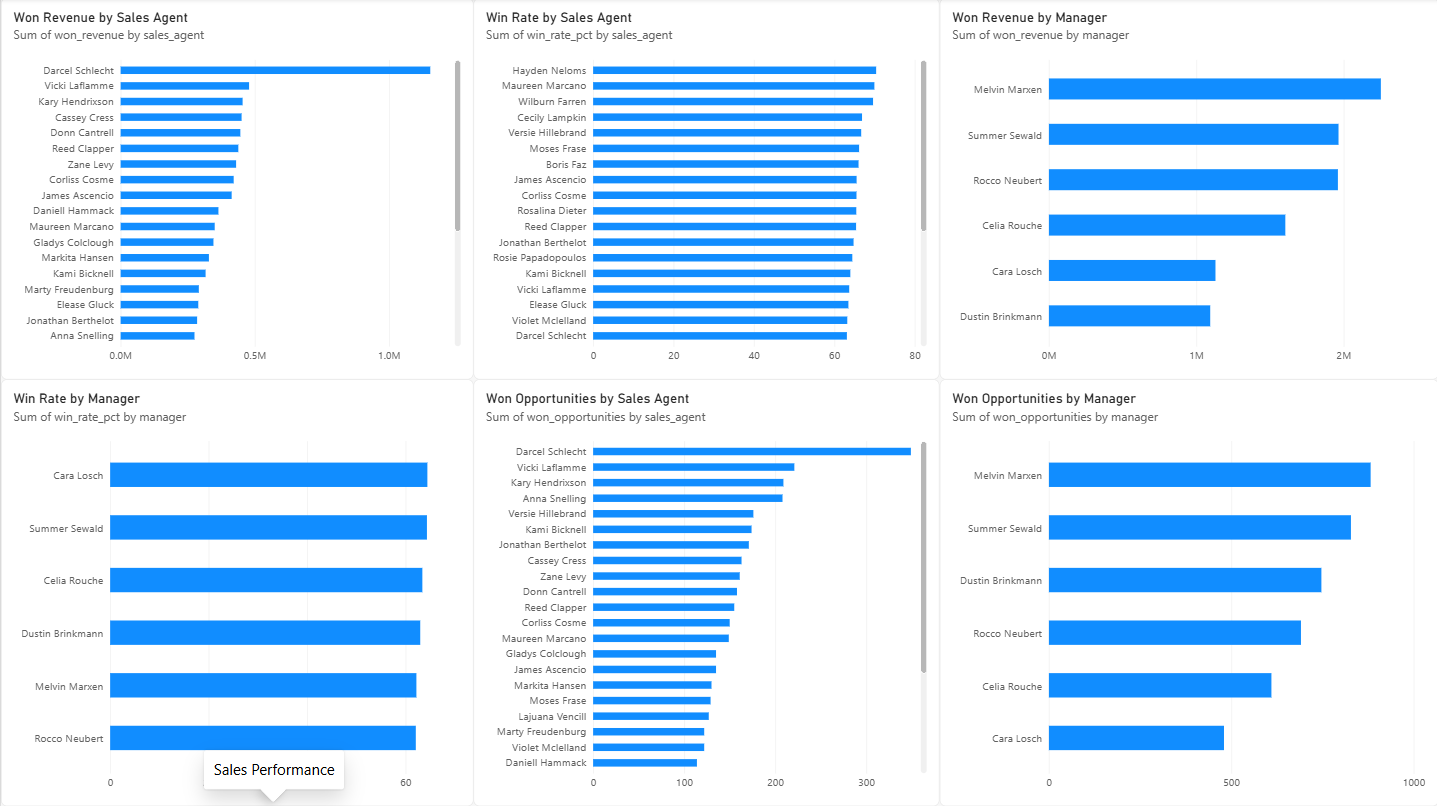

Layout of this report page (visuals, bound fields, positions):
{"tool":"powerbi","page":{"name":"Sales Performance","canvas":[1920,1080],"ordinal":1},"visuals":[{"type":"clusteredBarChart","title":"Won Revenue by Sales Agent","fields":{"Category":["sales_agent_performance.sales_agent"],"Y":["Sum(sales_agent_performance.won_revenue)"]},"box":[0,0,631.4,509.3],"z":0},{"type":"clusteredBarChart","title":"Win Rate by Sales Agent","fields":{"Category":["sales_agent_performance.sales_agent"],"Y":["Sum(sales_agent_performance.win_rate_pct)"]},"box":[631.4,0,622.7,509.3],"z":1},{"type":"clusteredBarChart","title":"Won Revenue by Manager","fields":{"Category":["manager_performance.manager"],"Y":["Sum(manager_performance.won_revenue)"]},"box":[1254.1,0,666.3,509.3],"z":2},{"type":"barChart","title":"Win Rate by Manager","fields":{"Category":["manager_performance.manager"],"Y":["Sum(manager_performance.win_rate_pct)"]},"box":[0,509.3,631.4,570.4],"z":3},{"type":"clusteredBarChart","title":"Won Opportunities by Sales Agent","fields":{"Category":["sales_agent_performance.sales_agent"],"Y":["Sum(sales_agent_performance.won_opportunities)"]},"box":[631.4,509.3,622.7,570.4],"z":4},{"type":"clusteredBarChart","title":"Won Opportunities by Manager","fields":{"Category":["manager_performance.manager"],"Y":["Sum(manager_performance.won_opportunities)"]},"box":[1254.1,509.3,666.3,570.4],"z":5}]}

Visuals, with their boxes in screenshot pixels (x1, y1, x2, y2), scaled from the page's 1920x1080 canvas onto the 1437x806 screenshot:
"Won Revenue by Sales Agent" clusteredBarChart: <bbox>0, 0, 473, 380</bbox>
"Win Rate by Sales Agent" clusteredBarChart: <bbox>473, 0, 939, 380</bbox>
"Won Revenue by Manager" clusteredBarChart: <bbox>939, 0, 1436, 380</bbox>
"Win Rate by Manager" barChart: <bbox>0, 380, 473, 805</bbox>
"Won Opportunities by Sales Agent" clusteredBarChart: <bbox>473, 380, 939, 805</bbox>
"Won Opportunities by Manager" clusteredBarChart: <bbox>939, 380, 1436, 805</bbox>
